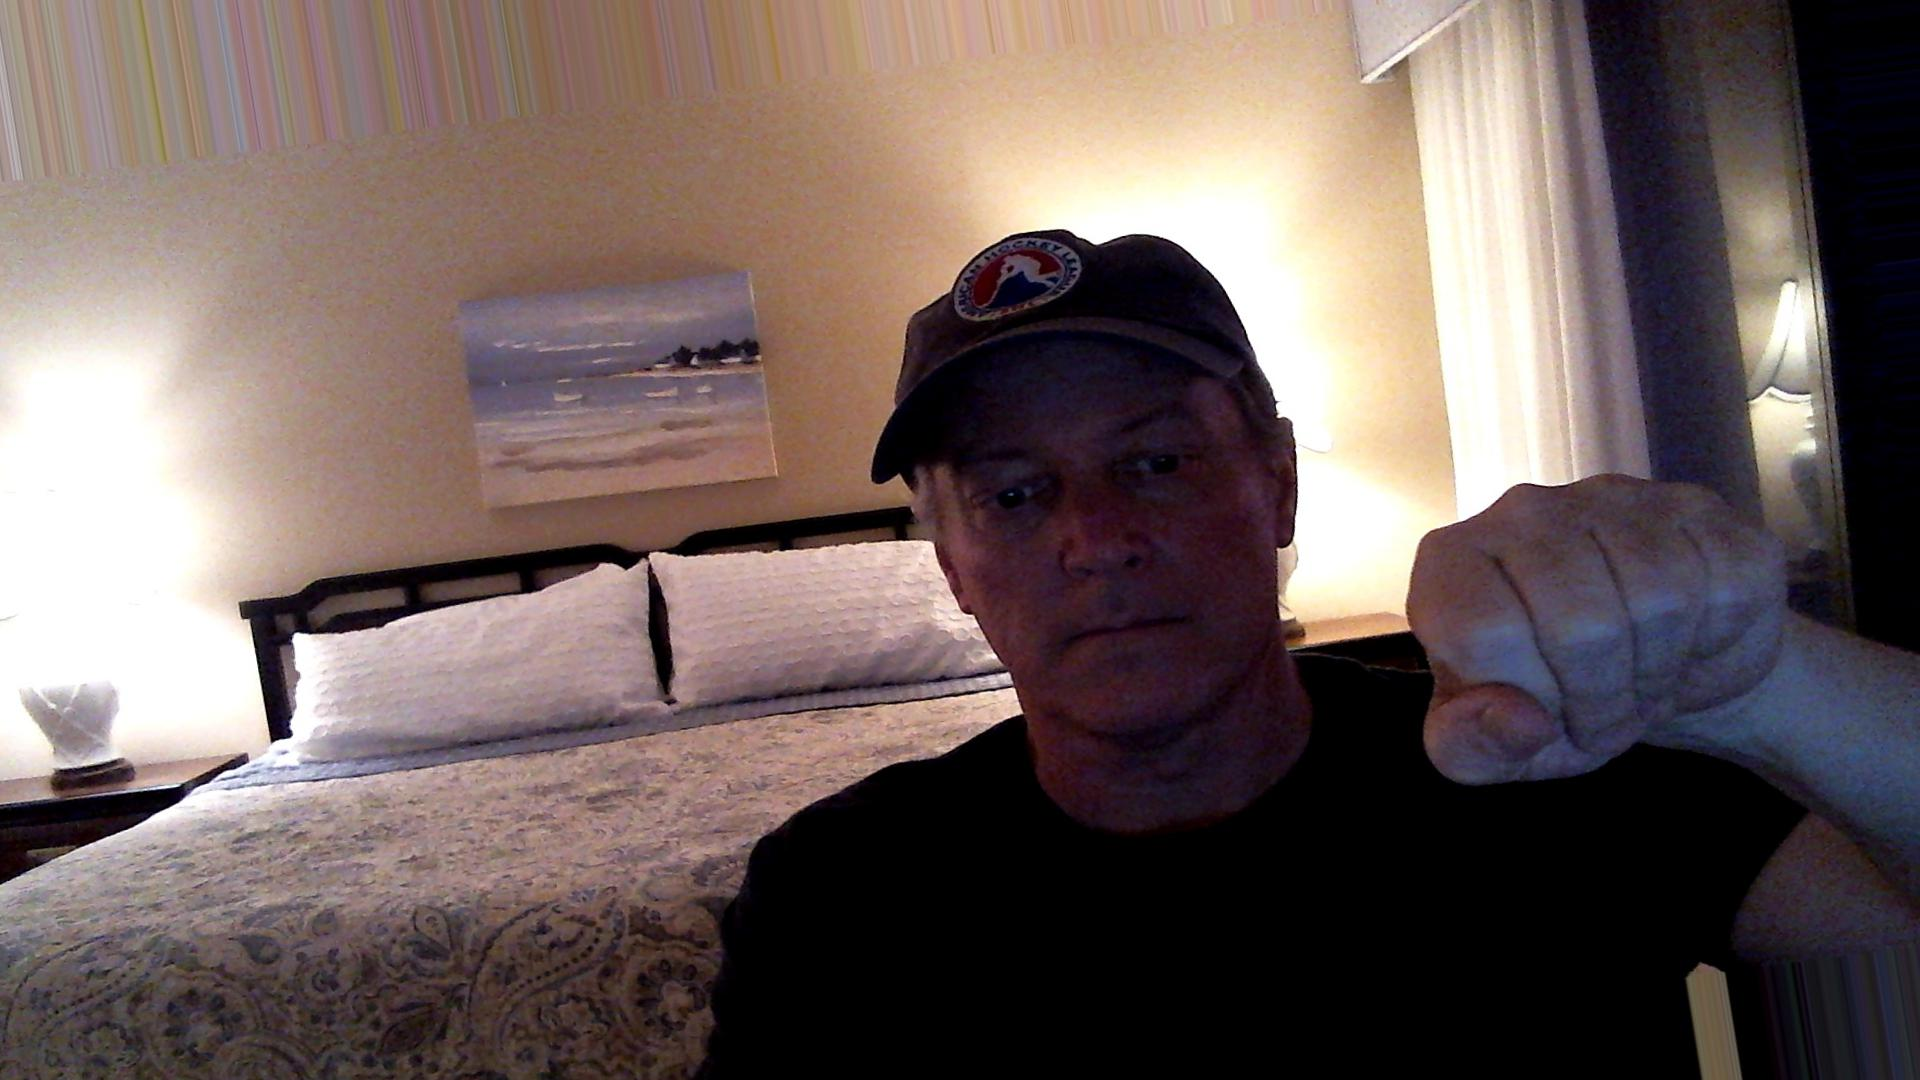Yes: (1369, 448, 1811, 810)
